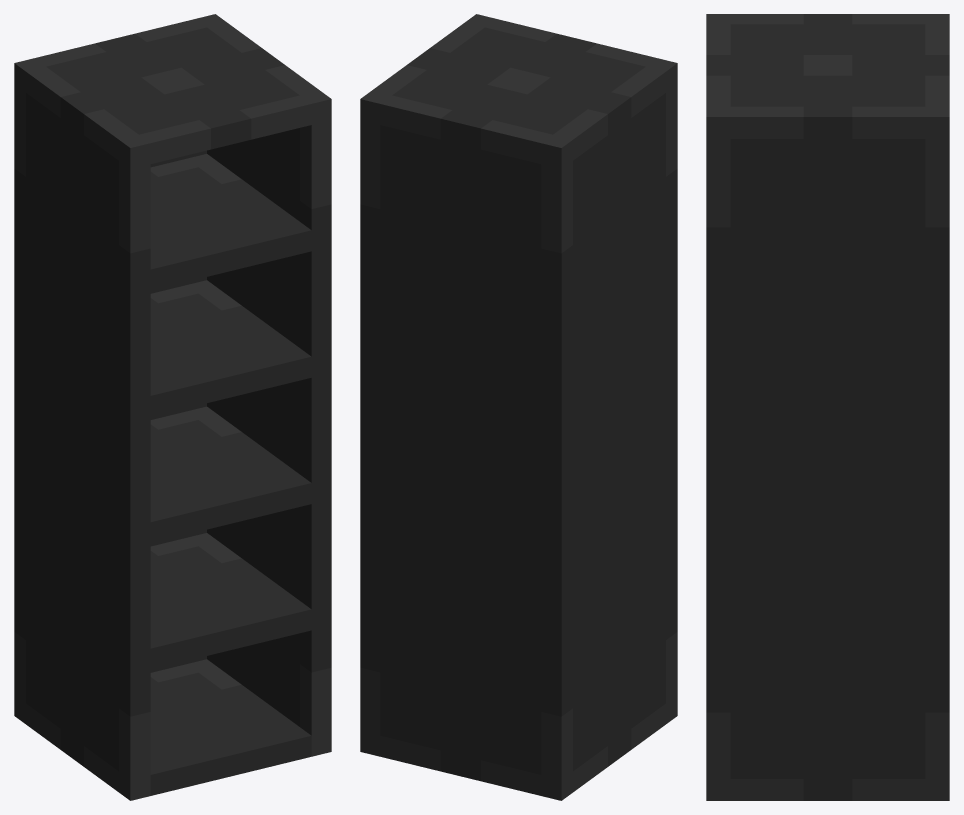
Rendered from Decor-61.obj.
3 renders of one model, left to right at view 1: azimuth 30°, elevation 25°; view 2: azimuth 150°, elevation 25°; view 3: azimuth 270°, elevation 25°, orthographic. The views are drawn at different scales.
Size of the model in its own units: 1 by 3.1 by 1.
1 material, 1 textured.
